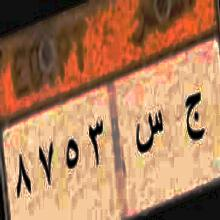3: (86, 117, 107, 176)
5: (62, 132, 81, 182)
7: (36, 138, 54, 194)
8: (13, 150, 32, 205)
jeem: (182, 90, 205, 152)
seen: (134, 107, 167, 159)
